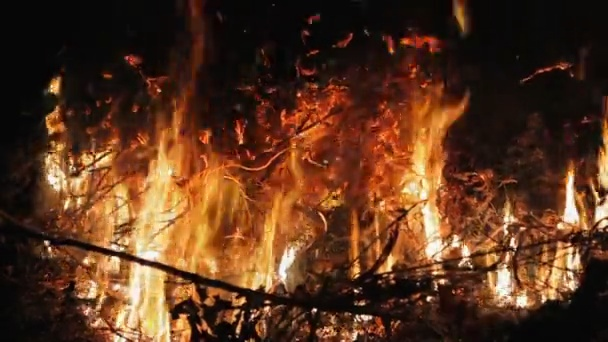fire: (38, 109, 297, 342), (406, 95, 446, 271), (546, 168, 579, 296), (595, 121, 608, 227), (501, 201, 523, 252), (495, 267, 512, 303)
